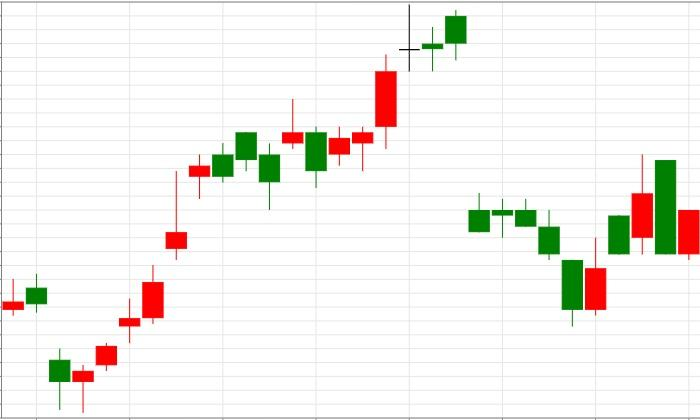three_white_soldiers_rise: (25, 273, 141, 413)
